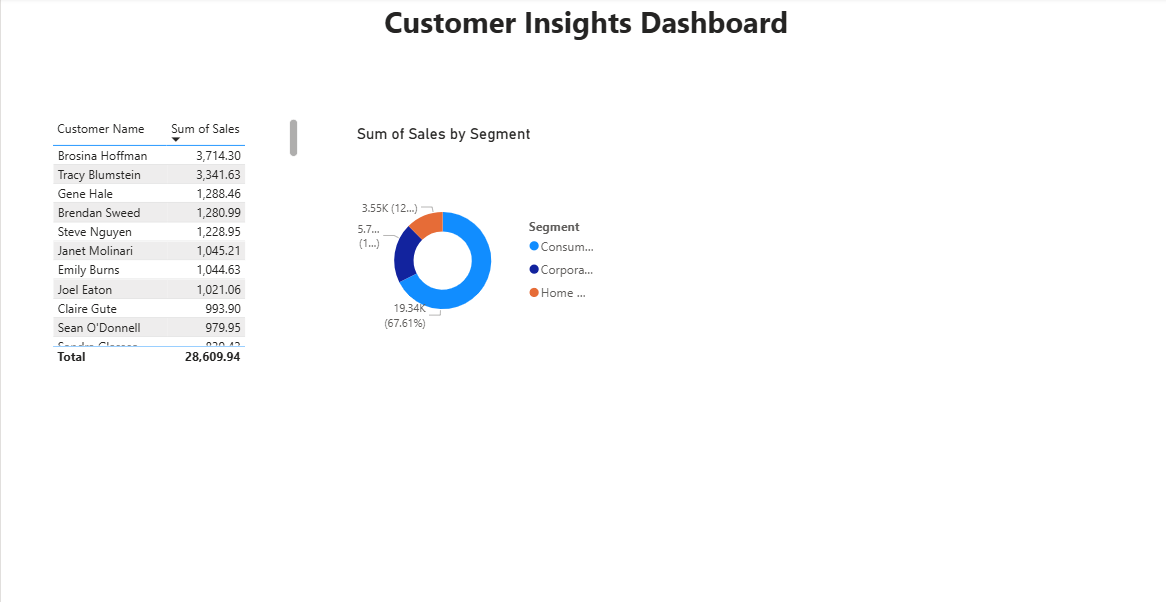

The page's visual inventory and layout, read from the dashboard file:
{"tool":"powerbi","page":{"name":"Customer Analytics","canvas":[1280,720],"ordinal":2},"visuals":[{"type":"tableEx","fields":{"Values":["sales_project.Customer Name","Sum(sales_project.Sales)"]},"box":[50.8,129,279.9,279.9],"z":0},{"type":"donutChart","fields":{"Category":["sales_project.Segment"],"Y":["Sum(sales_project.Sales)"]},"box":[385.6,140,279.9,279.9],"z":1},{"type":"textbox","box":[415.8,0,474.8,57.6],"z":2}]}

Visuals, with their boxes on the page's 1280x720 design canvas (x1, y1, x2, y2). These are canvas units, not pixel positions in the 1166x602 screenshot, which may show the page scaled, cropped or inside an application window:
tableEx - sales_project.Customer Name x Sum(sales_project.Sales): select_region(51, 129, 331, 409)
donutChart - sales_project.Segment x Sum(sales_project.Sales): select_region(386, 140, 666, 420)
textbox: select_region(416, 0, 891, 58)
